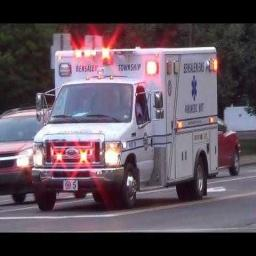Ambulance: (32, 47, 217, 210)
